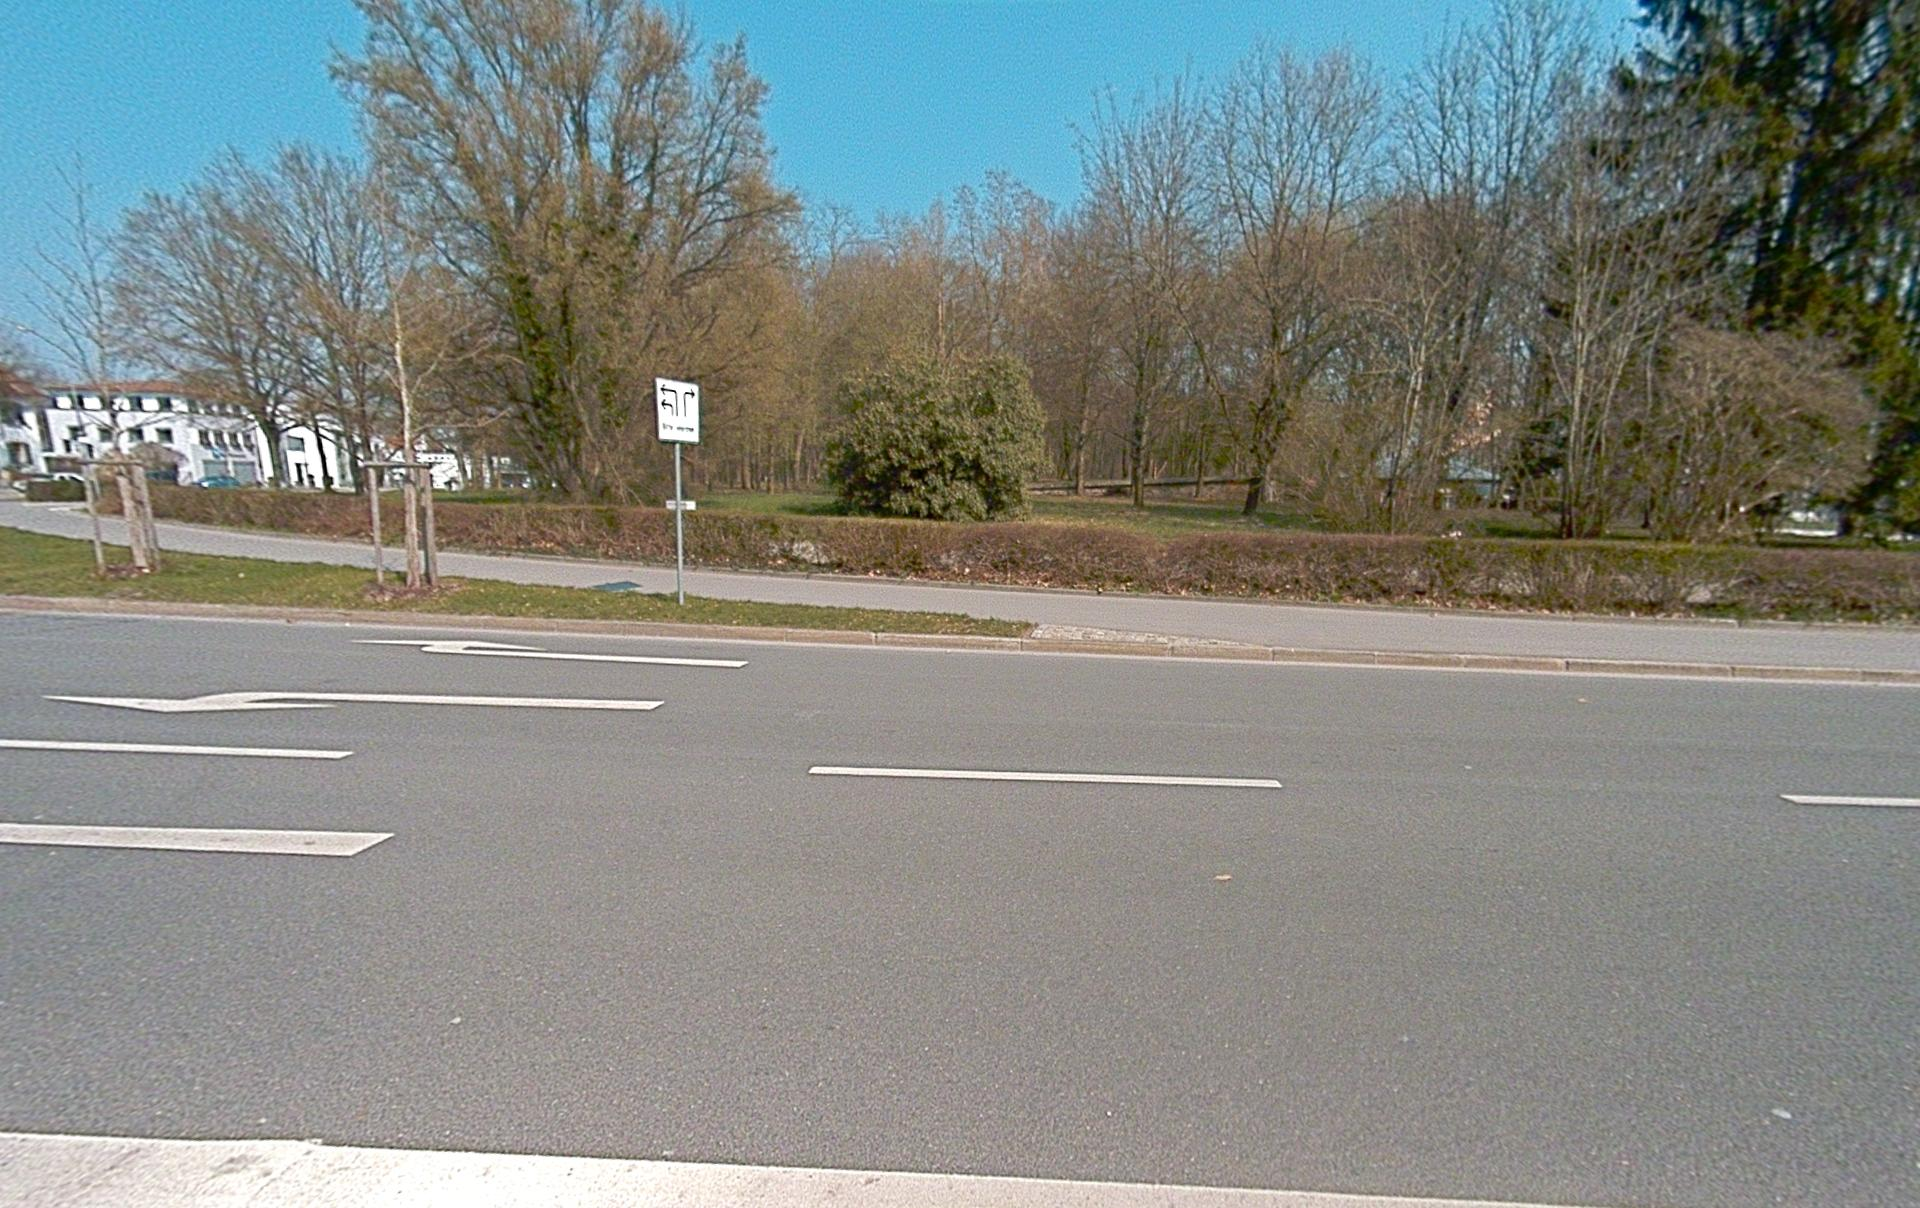car: (193, 475, 242, 488)
traffic sign: (655, 377, 701, 444)
